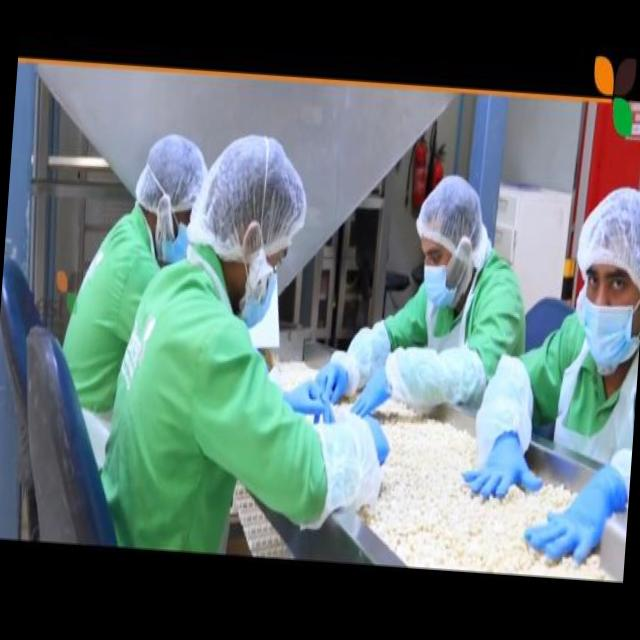hairnet: (202, 130, 310, 250), (416, 172, 495, 259), (134, 129, 208, 205), (582, 184, 640, 275)
